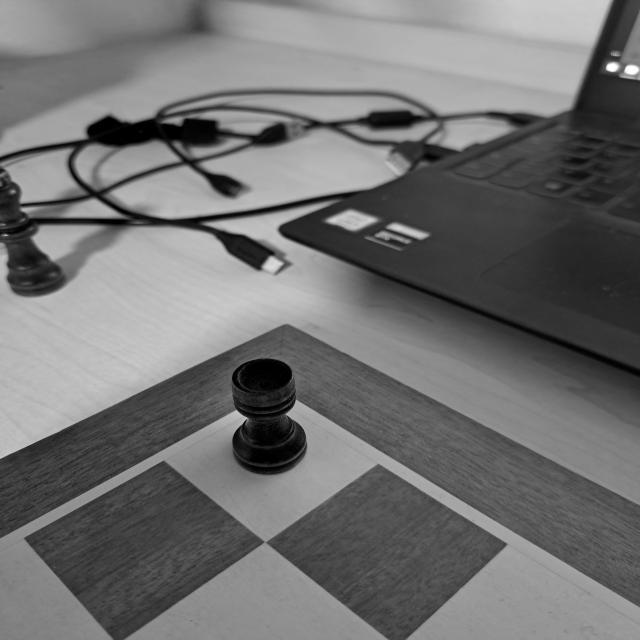chess-table-corners: (215, 376, 342, 436)
